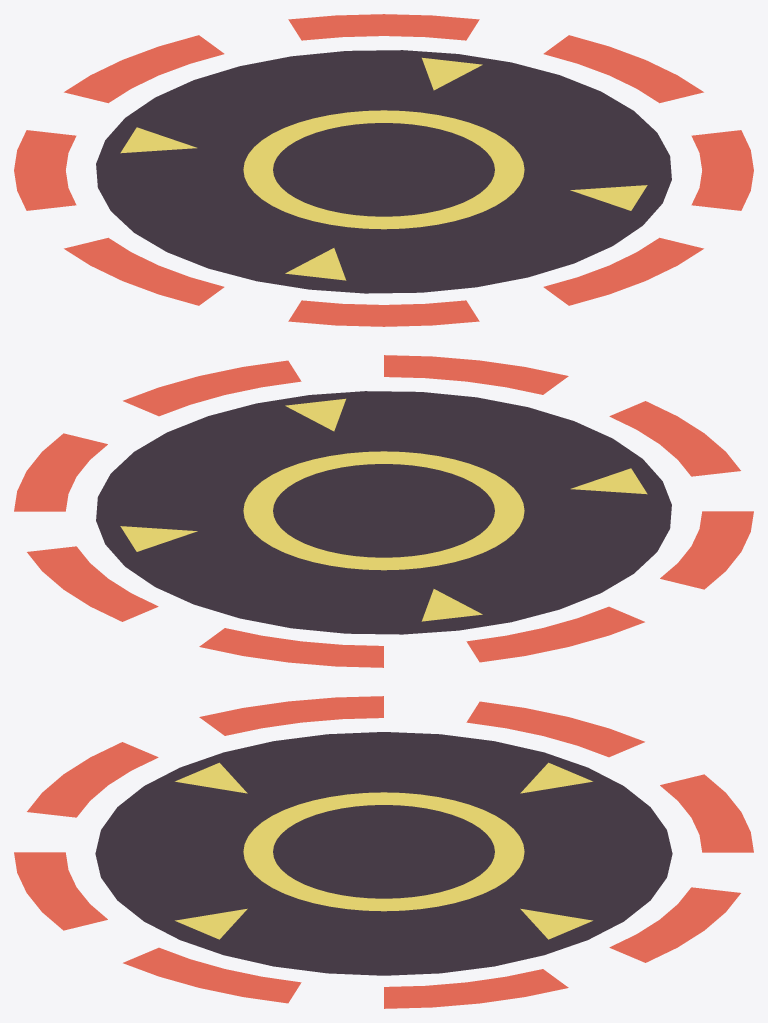
File: FX_BossShadowMarker.fbx
3 renders of one model, top to bottom at view 1: azimuth 30°, elevation 25°; view 2: azimuth 150°, elevation 25°; view 3: azimuth 270°, elevation 25°, orthographic.
Visible parts, largest first — view 1: ShadowMarker; view 2: ShadowMarker; view 3: ShadowMarker.
Part boxes in pixels (x1,y1,x2,y2): ShadowMarker: (14,14,753,326); ShadowMarker: (14,355,753,667); ShadowMarker: (14,696,753,1008).
Bounding box in the file's own units: 2 × 0.008 × 2.
